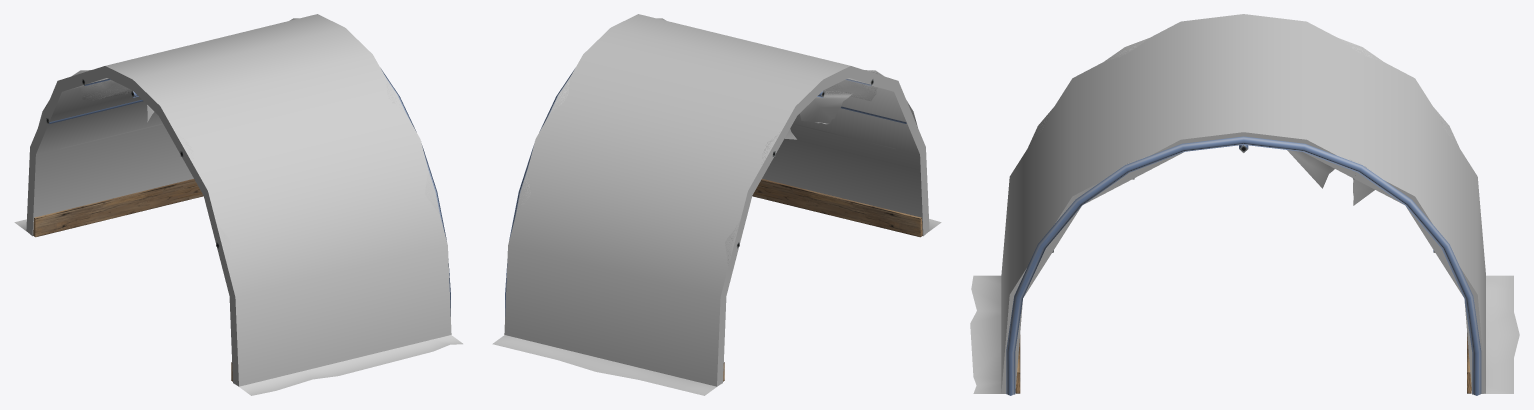
Rendered from greenHouse_mid_C.FBX.
The picture shows the model from 3 angles, left to right: view 1: azimuth 30°, elevation 25°; view 2: azimuth 150°, elevation 25°; view 3: azimuth 270°, elevation 25°; orthographic projection. The views are drawn at different scales.
Visible parts, largest first — view 1: greenHouse_mid_C_COL, greenHouse_mid_C, greenHouse_mid_C_top; view 2: greenHouse_mid_C_COL, greenHouse_mid_C, greenHouse_mid_C_top; view 3: greenHouse_mid_C_COL, greenHouse_mid_C, greenHouse_mid_C_top.
Boxes of the visible parts, box(x1,y1,x2,y2) form: greenHouse_mid_C_COL: box(26, 14, 451, 386); greenHouse_mid_C: box(14, 69, 462, 395); greenHouse_mid_C_top: box(42, 18, 435, 243); greenHouse_mid_C_COL: box(504, 14, 929, 386); greenHouse_mid_C: box(492, 69, 941, 395); greenHouse_mid_C_top: box(520, 18, 913, 243); greenHouse_mid_C_COL: box(1001, 14, 1485, 394); greenHouse_mid_C: box(970, 126, 1519, 395); greenHouse_mid_C_top: box(1038, 38, 1449, 205).
Bounding box in the file's own units: 305 × 311 × 590.
